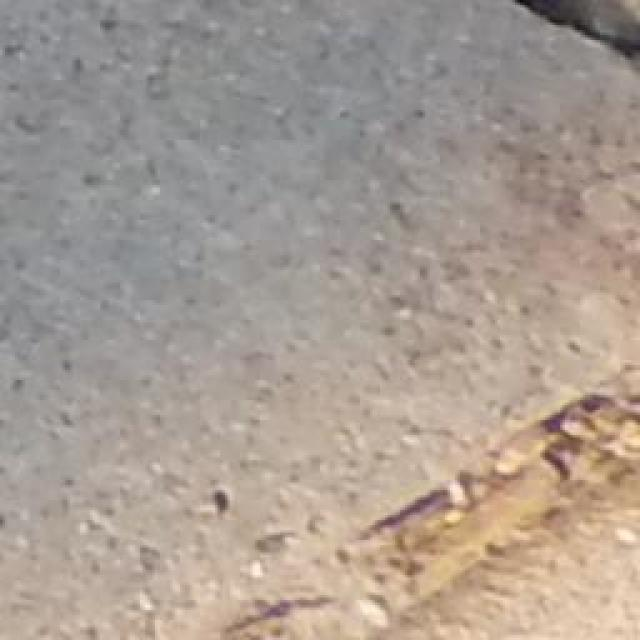concrete-crack: (207, 373, 640, 640), (506, 0, 640, 74)
